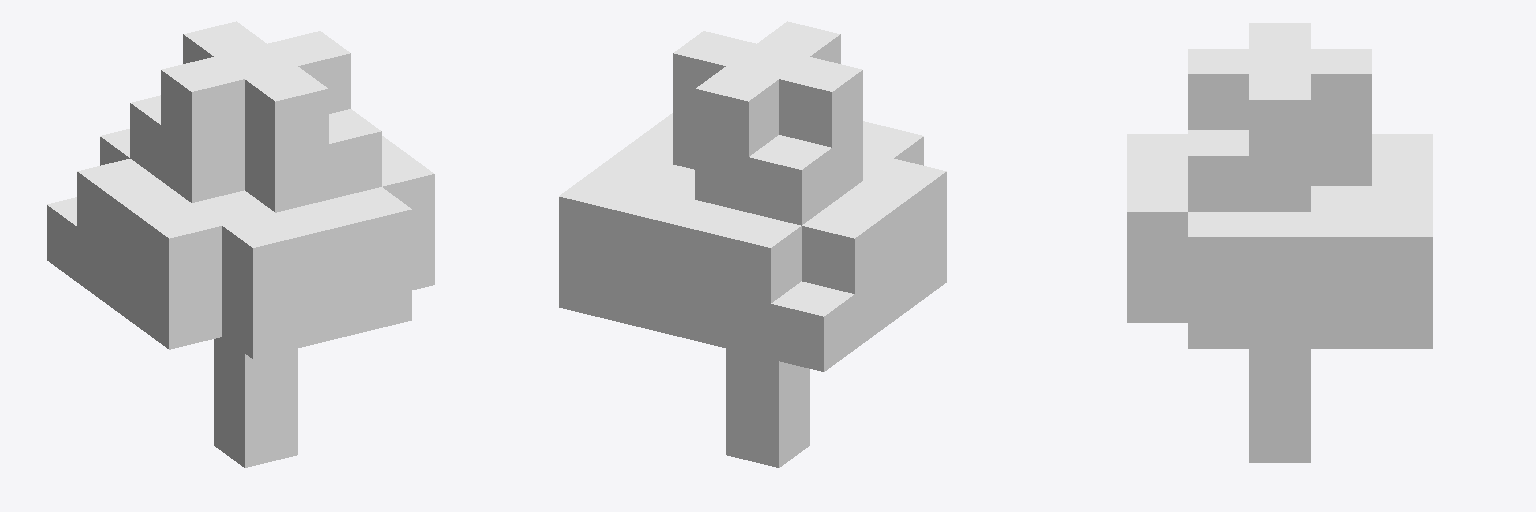
Rendered from Mineways2Skfb.obj.
The picture shows the model from 3 angles: view 1: azimuth 30°, elevation 25°; view 2: azimuth 150°, elevation 25°; view 3: azimuth 270°, elevation 25°; orthographic projection.
Parts seen in each view (by area): view 1: New_World__13_-63_-46_to_17_319_-42; view 2: New_World__13_-63_-46_to_17_319_-42; view 3: New_World__13_-63_-46_to_17_319_-42.
Part boxes in pixels (left/top/right/bottom): New_World__13_-63_-46_to_17_319_-42: left=47, top=21, right=434, bottom=467; New_World__13_-63_-46_to_17_319_-42: left=559, top=21, right=946, bottom=467; New_World__13_-63_-46_to_17_319_-42: left=1127, top=23, right=1432, bottom=462.
Size of the model in its own units: 0.7143 by 1 by 0.7143.